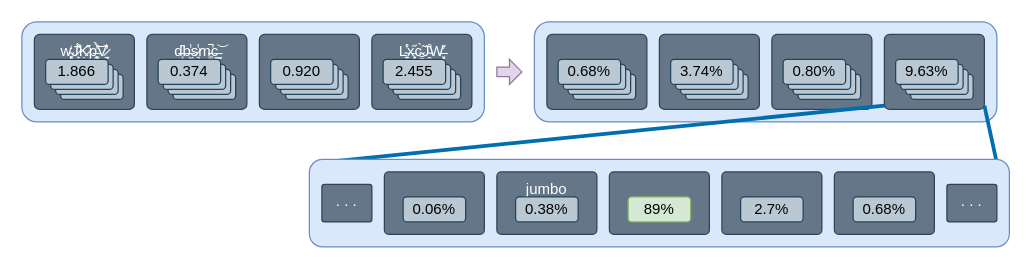
Some shapes in this 1031 by 269 pixel diagram are drawn without their labels. The box of each missing label's shape, as (x1, y1, x2, y2) in pixels:
July: (383, 171, 484, 234)
jumps: (608, 171, 709, 234)
jumpy: (721, 171, 822, 234)
junco: (833, 171, 934, 234)
prediction 1: (546, 33, 647, 109)
prediction 2: (658, 33, 759, 109)
prediction 3: (771, 33, 872, 109)
prediction 4: (883, 33, 984, 109)
r̶̯̂K̷̘̚y̶̘͝W̶̘̉E̵̱͘: (258, 33, 359, 109)
